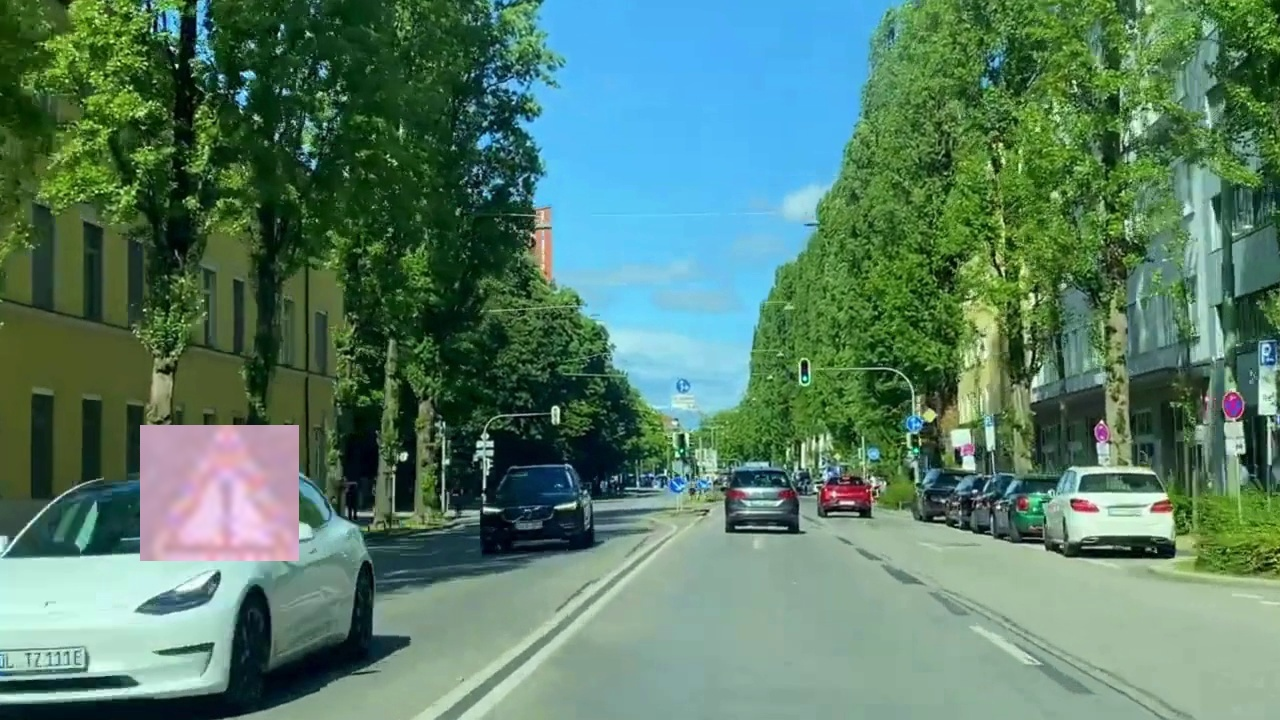Caution: (140, 425, 299, 561)
